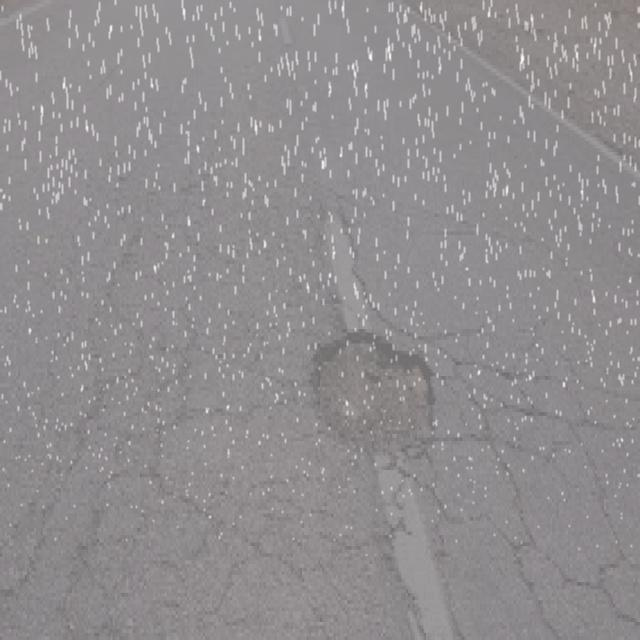Pothole: (289, 312, 454, 467)
